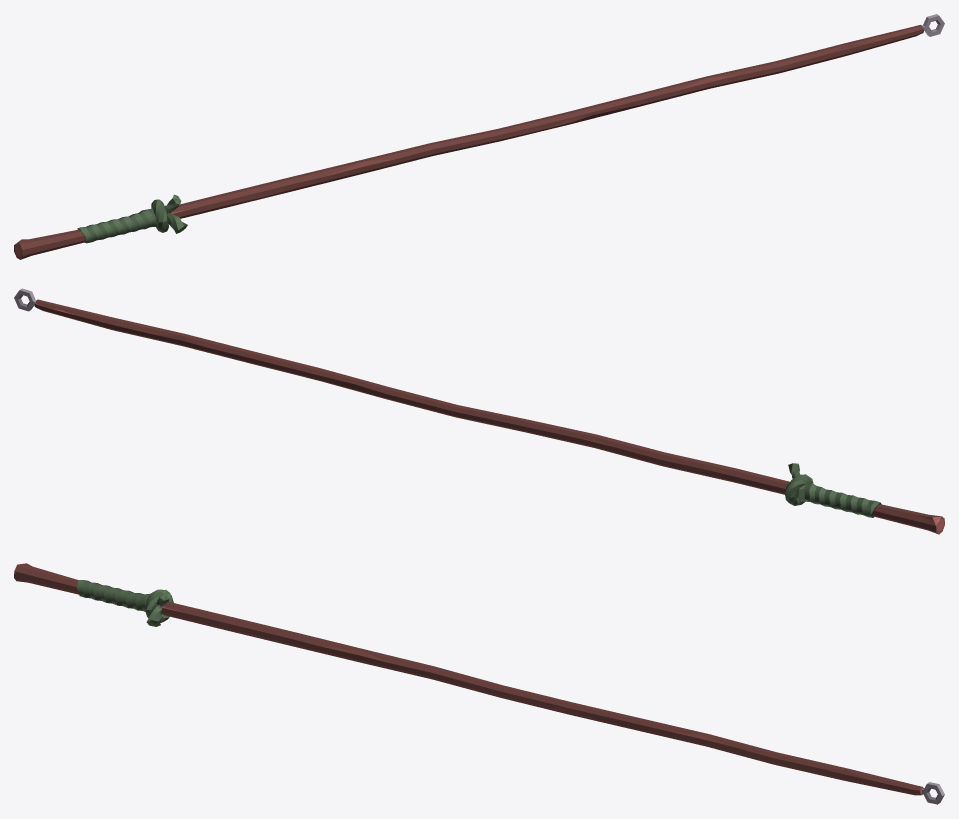
The model's file is Tool_FishingRod.fbx.
3 views of the same model, one above another, from view 1: azimuth 30°, elevation 25°; view 2: azimuth 150°, elevation 25°; view 3: azimuth 330°, elevation 25° (orthographic).
Parts seen in each view (by area): view 1: Tool_FishingRod; view 2: Tool_FishingRod; view 3: Tool_FishingRod.
Part boxes in pixels (box(x1,y1,x2,y2)): Tool_FishingRod: box(14, 14, 944, 259); Tool_FishingRod: box(14, 288, 944, 534); Tool_FishingRod: box(14, 563, 944, 804).
Bounding box in the file's own units: 202 × 7.78 × 9.24.
